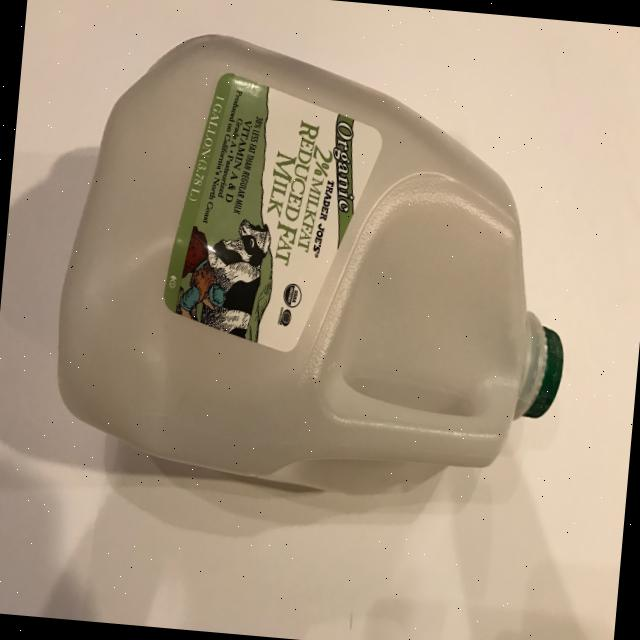plastic: (45, 21, 589, 506)
